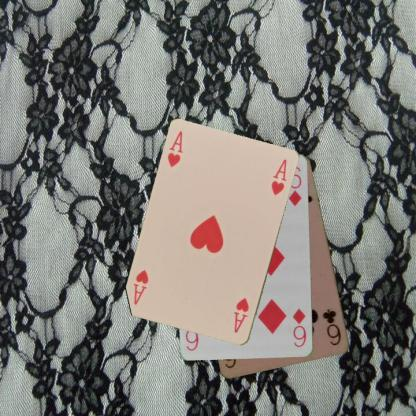6c: (320, 306, 343, 347)
6d: (290, 306, 308, 348)
Ah: (165, 128, 184, 169), (231, 295, 250, 335)
